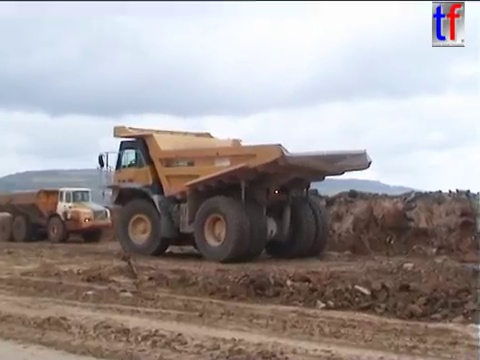truck: (96, 123, 374, 265), (1, 185, 113, 246)
